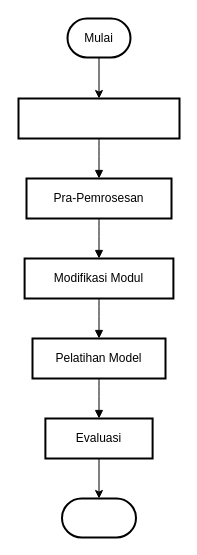
Image size: 197x555. Some labels were removed from this diagram. The box of each missing label's shape, as (x1, y1, x2, y2) in pixels:
Persiapan Data: (17, 97, 180, 139)
Selesai: (60, 497, 136, 538)
